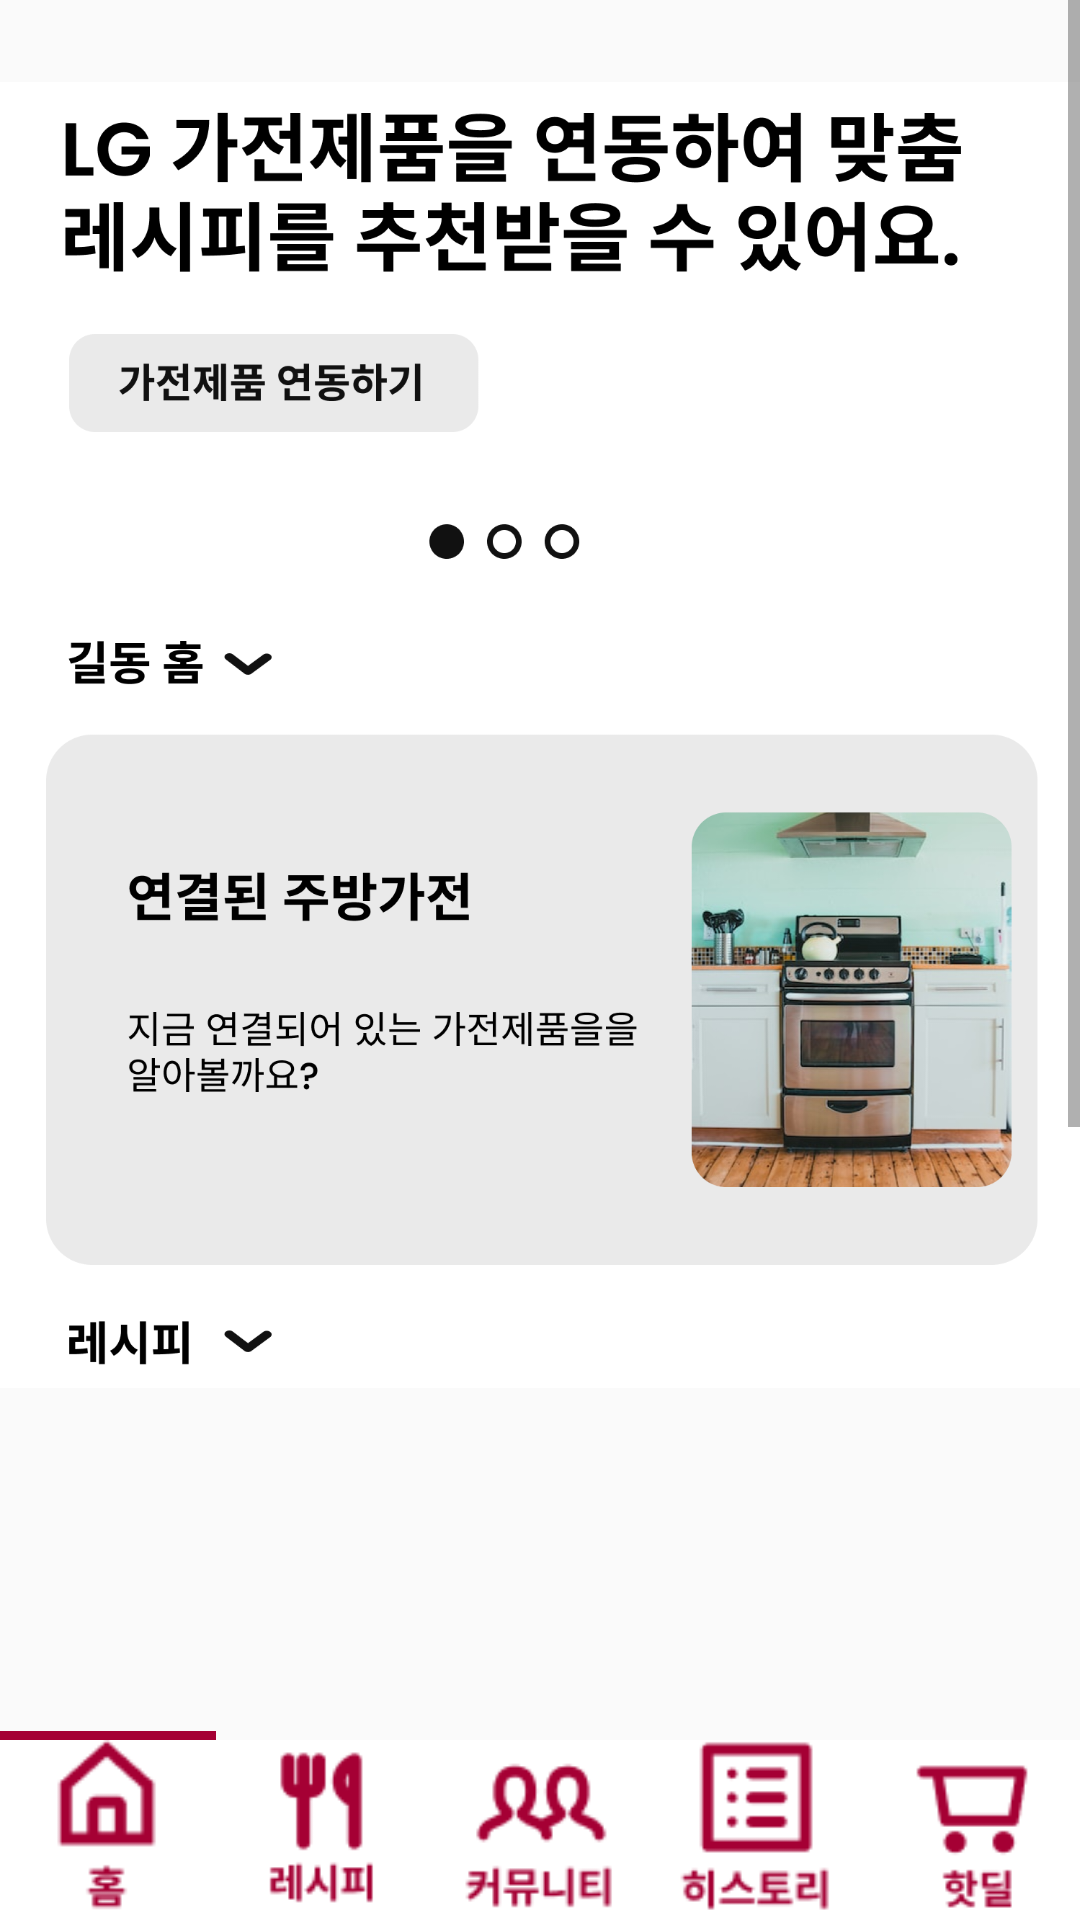

Icons on this 1080px x 1920px Android screen, each with its box as rect(x1, y1, x2, y2):
bottom store: rect(916, 1765, 1028, 1908)
bottom talk: rect(465, 1764, 612, 1907)
